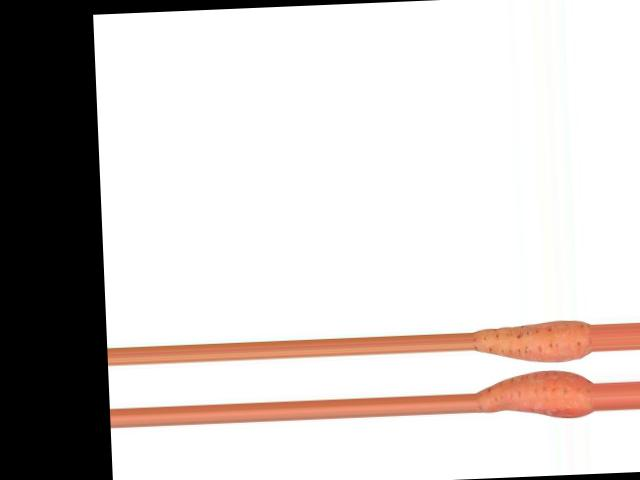sweet_potato: (476, 320, 593, 366)
